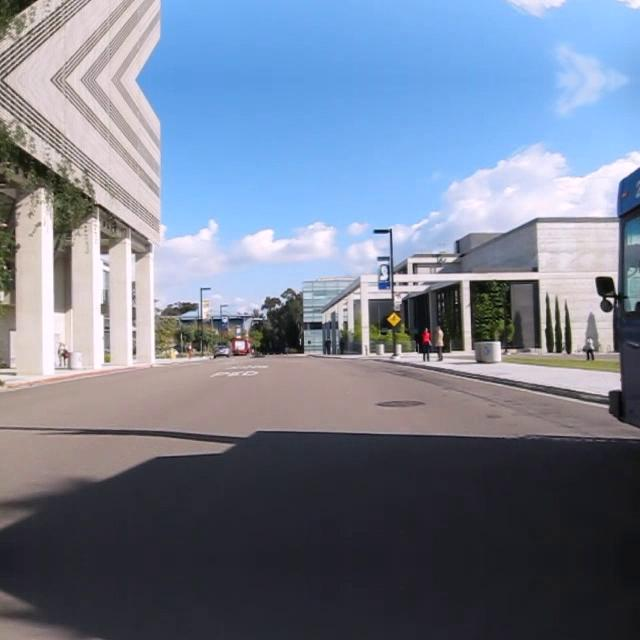pedestrianCrossing: (386, 311, 402, 327)
